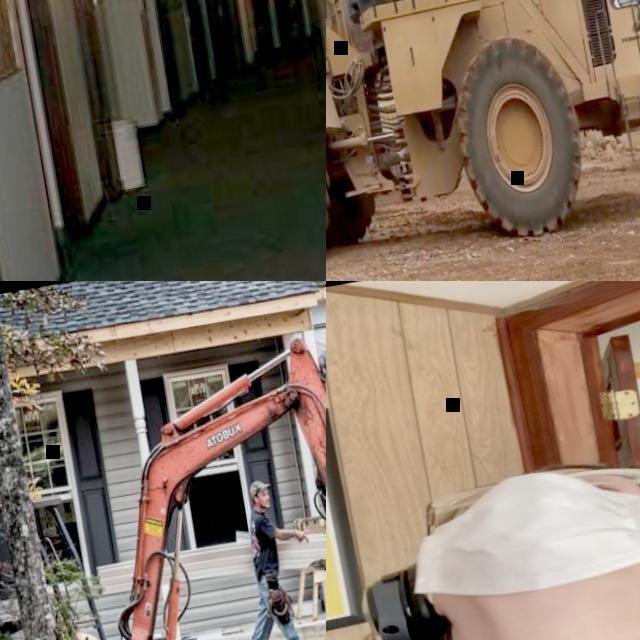Mask: (396, 451, 640, 611)
NO-Hardhat: (246, 479, 270, 498)
NO-Mask: (257, 498, 270, 509)
NO-Safety Vest: (245, 513, 279, 575)
Person: (326, 414, 640, 640), (220, 471, 326, 640)
machinery: (0, 324, 326, 640), (326, 0, 640, 281)
